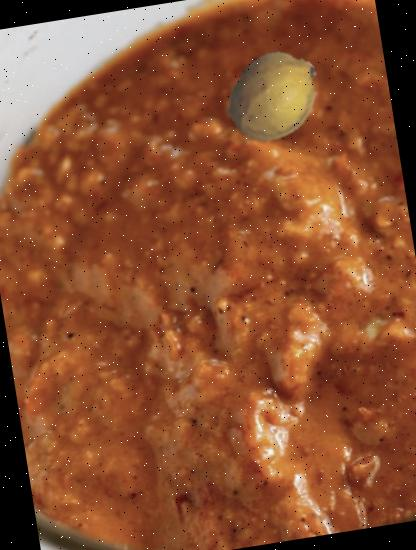Lemon: (218, 40, 331, 152)
